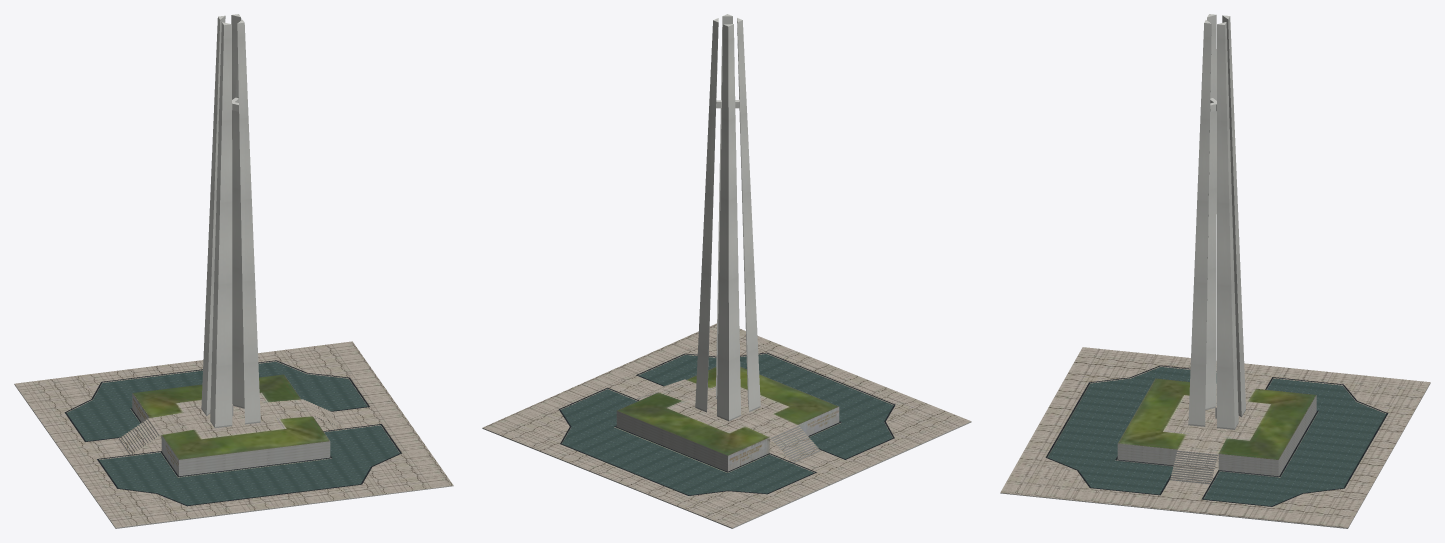
3 renders of one model, left to right at view 1: azimuth 30°, elevation 25°; view 2: azimuth 150°, elevation 25°; view 3: azimuth 270°, elevation 25°, orthographic. The views are drawn at different scales.
Parts seen in each view (by area): view 1: Civilian Memorial courts and plinth, Civilian Memorial painted pillars, Civilian Memorial reflecting pools; view 2: Civilian Memorial courts and plinth, Civilian Memorial reflecting pools, Civilian Memorial painted pillars; view 3: Civilian Memorial courts and plinth, Civilian Memorial reflecting pools, Civilian Memorial painted pillars.
Part boxes in pixels (<box>): Civilian Memorial courts and plinth: <box>14,341,453,528</box>; Civilian Memorial painted pillars: <box>201,14,260,426</box>; Civilian Memorial reflecting pools: <box>67,361,399,505</box>; Civilian Memorial courts and plinth: <box>482,323,971,528</box>; Civilian Memorial reflecting pools: <box>561,354,893,495</box>; Civilian Memorial painted pillars: <box>695,14,760,419</box>; Civilian Memorial courts and plinth: <box>1000,347,1430,528</box>; Civilian Memorial reflecting pools: <box>1047,367,1385,506</box>; Civilian Memorial painted pillars: <box>1188,14,1245,428</box>.
Size of the model in its own units: 57.56 by 62.03 by 57.89.
3 materials, 3 textured.
